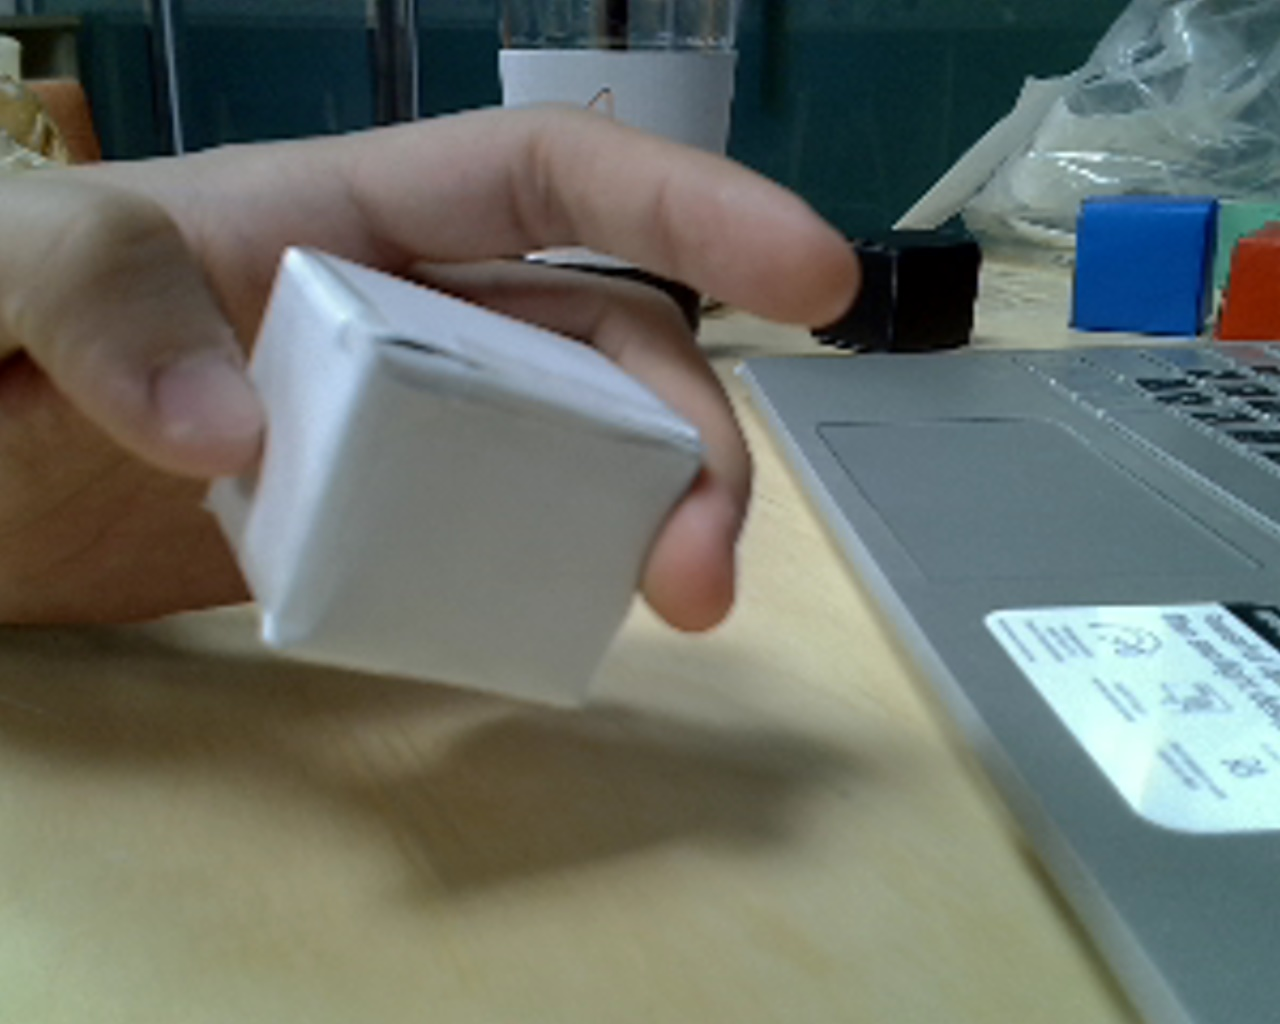whitebox: (174, 222, 745, 726)
